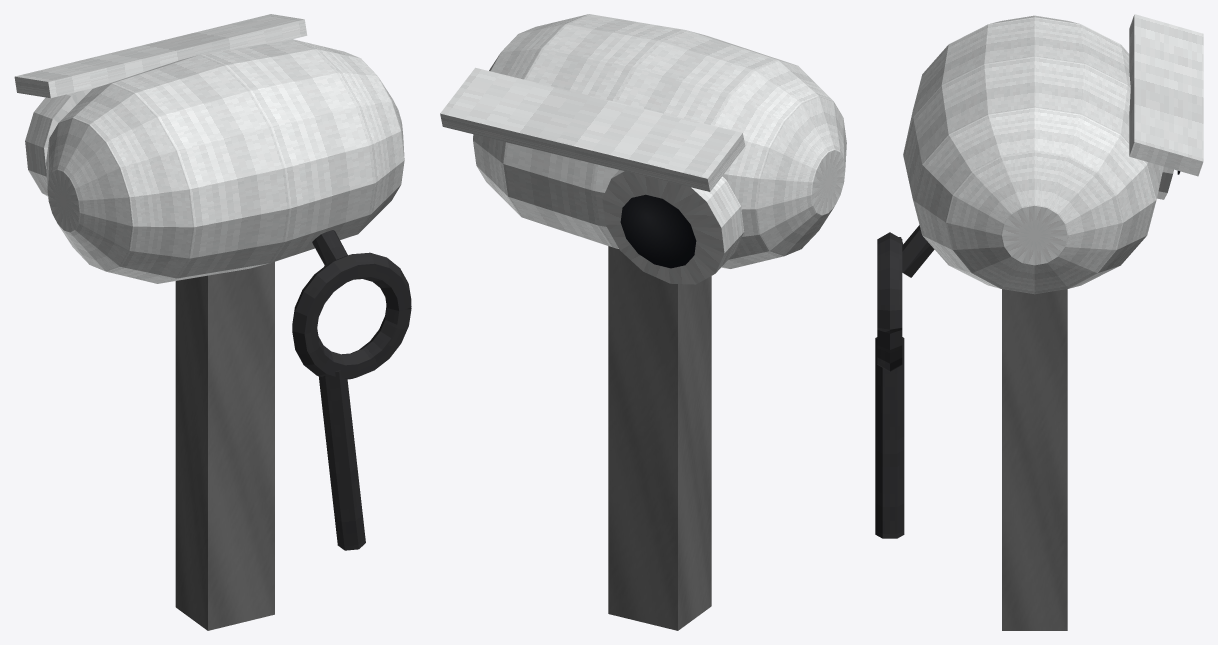
The model's file is vantage_vector_inv.obj.
3 views of the same model, side by side, from view 1: azimuth 30°, elevation 25°; view 2: azimuth 150°, elevation 25°; view 3: azimuth 270°, elevation 25° (orthographic). The views are drawn at different scales.
Parts seen in each view (by area): view 1: miovision360; view 2: miovision360; view 3: miovision360.
Boxes of the visible parts, x1=… form: miovision360: x1=14, y1=14, x2=411, y2=630; miovision360: x1=440, y1=14, x2=846, y2=630; miovision360: x1=875, y1=14, x2=1203, y2=630.
Bounding box in the file's own units: 0.58 × 0.935 × 0.4984.
